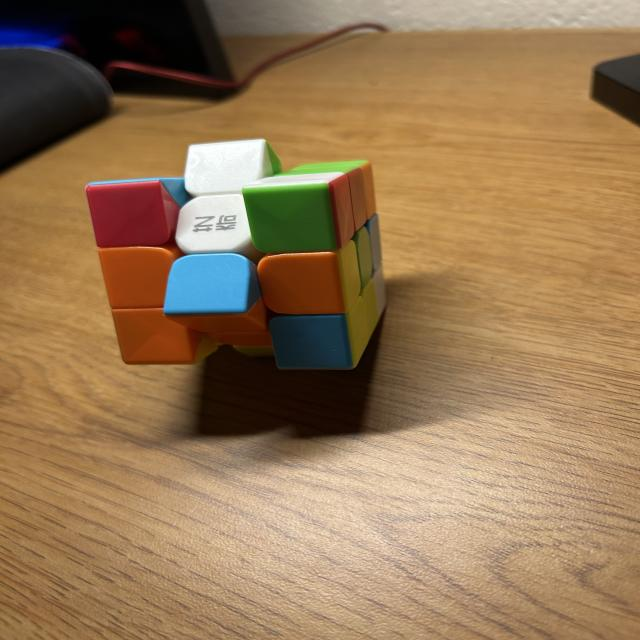Rubiks Cube: (86, 140, 388, 369)
